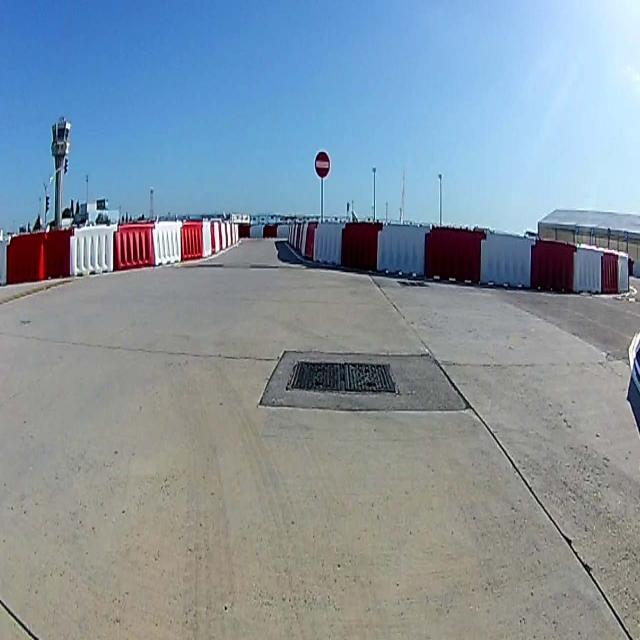girisyok: (314, 151, 330, 178)
